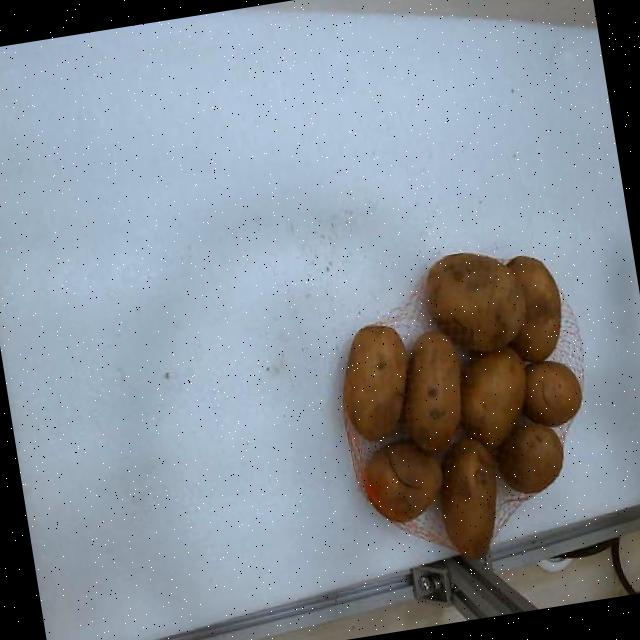potato: (427, 253, 527, 352), (344, 325, 408, 441), (404, 331, 461, 453), (441, 437, 496, 558), (461, 347, 526, 447), (362, 441, 443, 521), (508, 257, 560, 361), (496, 423, 564, 492), (526, 362, 581, 426), (510, 316, 559, 361)
